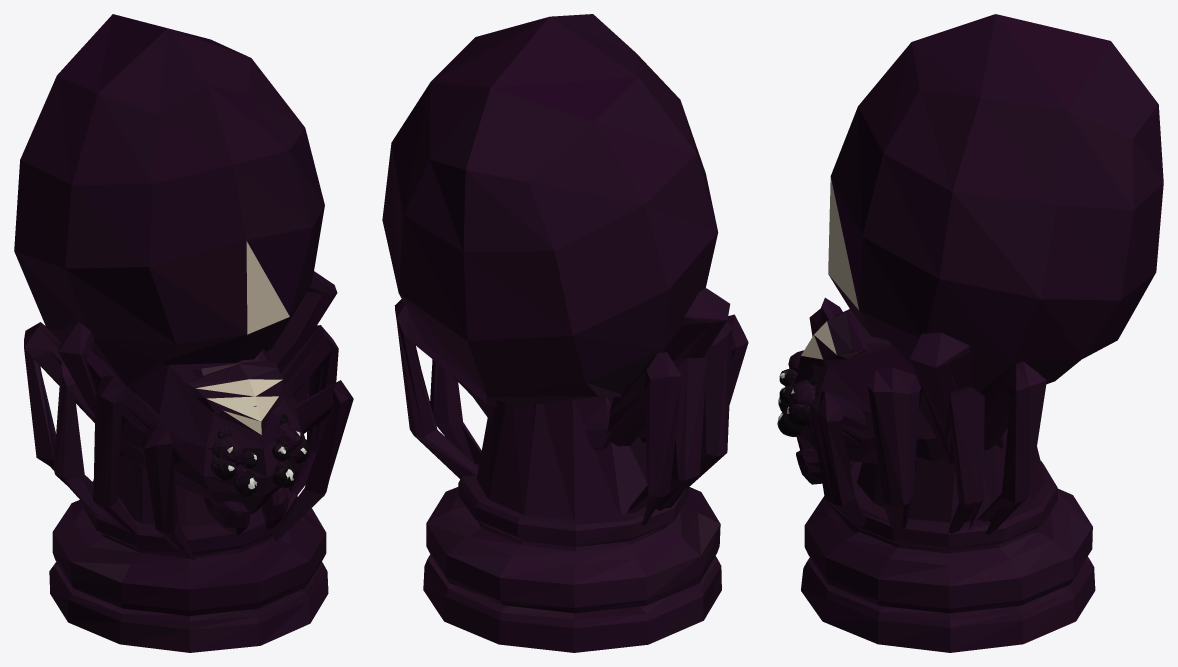
File: araignee.glb
The picture shows the model from 3 angles, left to right: view 1: azimuth 30°, elevation 25°; view 2: azimuth 150°, elevation 25°; view 3: azimuth 270°, elevation 25°; orthographic projection. The views are drawn at different scales.
Parts seen in each view (by area): view 1: mesh_node; view 2: mesh_node; view 3: mesh_node.
Boxes of the visible parts, box(x1,y1,x2,y2) form: mesh_node: box(14, 14, 353, 652); mesh_node: box(382, 14, 748, 652); mesh_node: box(777, 14, 1163, 652).
Size of the model in its own units: 0.5254 by 1 by 0.6074.
